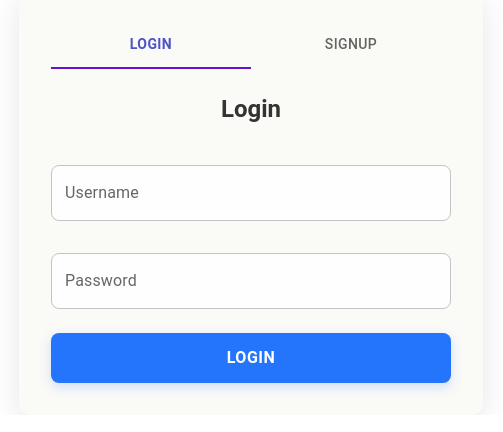
Test: Login Component › Se loggea y muestra mensaje si funciona el LLM
In the field labelled "Username": point(251, 193) [51,165,451,221], type "testuser"
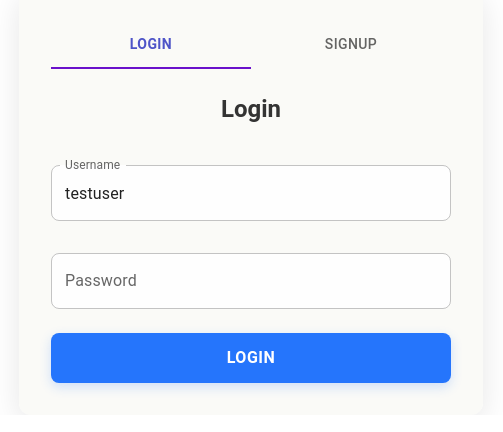
In the password field labelled "Password": point(251, 281) [51,253,451,309], type "password123"
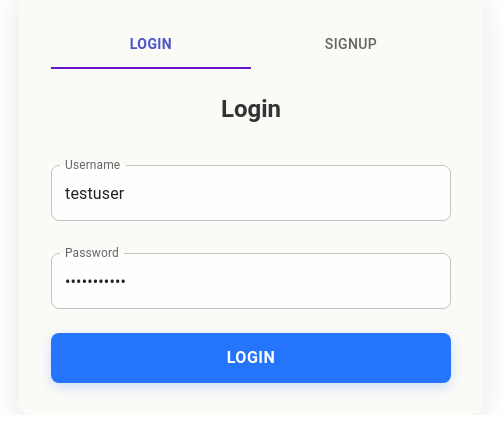
Click the button with test id "login-button": point(251, 358) [51,333,451,383]
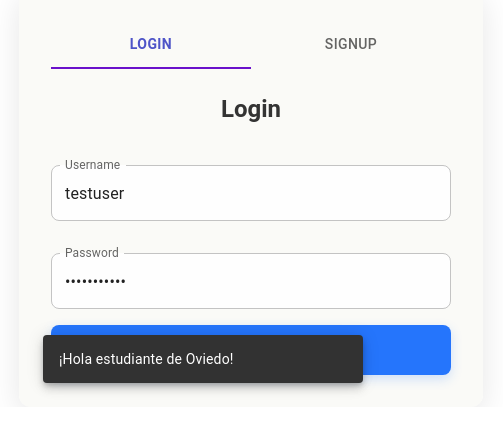
Check: the text "¡Hola estudiante de Oviedo!" is shown, box [59,351,234,367]
